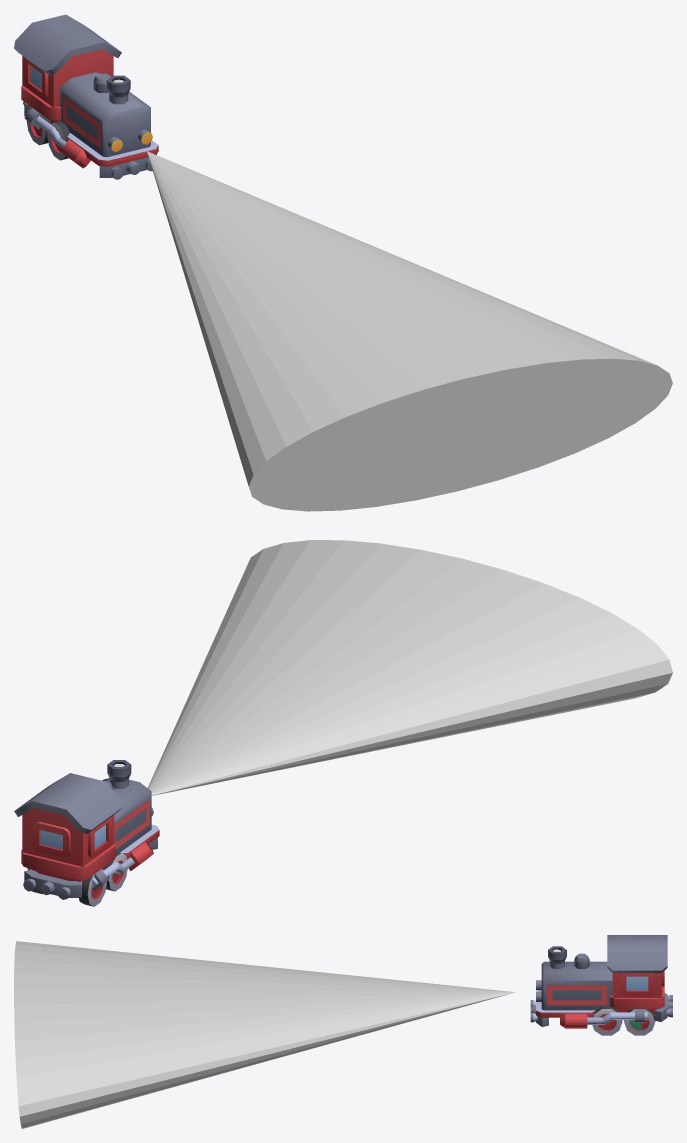
Rendered from train1.glb.
3 views of the same model, one above another, from view 1: azimuth 30°, elevation 25°; view 2: azimuth 150°, elevation 25°; view 3: azimuth 270°, elevation 25° (orthographic). The views are drawn at different scales.
Visible parts, largest first — view 1: trainlight, train-locomotive-b; view 2: trainlight, train-locomotive-b; view 3: trainlight, train-locomotive-b, wheel.008, wheel.009.
Part boxes in pixels (box(x1,y1,x2,y2)): trainlight: box(147, 151, 672, 511); train-locomotive-b: box(14, 14, 158, 179); trainlight: box(148, 540, 672, 795); train-locomotive-b: box(14, 760, 159, 899); trainlight: box(14, 941, 515, 1128); train-locomotive-b: box(530, 935, 672, 1028); wheel.008: box(592, 1006, 622, 1035); wheel.009: box(624, 1009, 655, 1035).
Size of the model in its own units: 7.07 by 2.8 by 12.03.
Materials: 2 (1 with a texture image).
